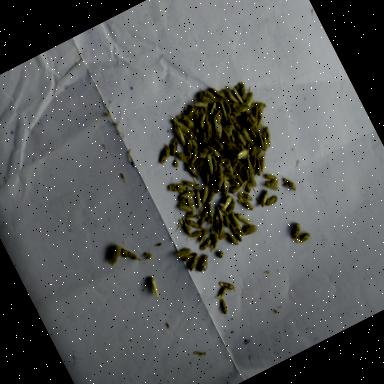pbw: (166, 177, 191, 200), (253, 149, 275, 175), (153, 142, 176, 166), (250, 187, 274, 210), (194, 182, 216, 206), (184, 174, 206, 198), (104, 243, 126, 266), (183, 252, 206, 274), (172, 114, 193, 138), (188, 188, 208, 213), (194, 252, 216, 274), (184, 145, 205, 168), (202, 84, 223, 107), (190, 156, 210, 180), (278, 172, 298, 196), (174, 197, 196, 218), (256, 130, 274, 154), (145, 276, 163, 300), (210, 116, 228, 140), (172, 124, 190, 148), (188, 214, 208, 235), (236, 192, 255, 214), (184, 160, 201, 184), (234, 80, 252, 102), (206, 231, 225, 251), (222, 196, 242, 215), (234, 208, 252, 229), (202, 203, 220, 224), (238, 124, 255, 146), (222, 228, 240, 248), (180, 138, 198, 158), (166, 136, 184, 156), (250, 155, 267, 176), (228, 220, 244, 242), (220, 276, 238, 295), (177, 192, 196, 210), (232, 127, 249, 147), (239, 222, 259, 239), (201, 118, 217, 139), (228, 211, 244, 232), (180, 214, 195, 236), (216, 177, 233, 196), (224, 86, 240, 106), (210, 132, 226, 152), (230, 82, 244, 104), (213, 222, 230, 240), (210, 83, 226, 102), (203, 154, 218, 174), (261, 126, 276, 146), (288, 222, 305, 239), (237, 187, 254, 204), (246, 142, 264, 158), (206, 154, 222, 172), (253, 110, 269, 128), (294, 230, 313, 245), (220, 138, 234, 158), (254, 128, 268, 148), (242, 90, 258, 107), (195, 229, 212, 245), (214, 286, 231, 302), (209, 212, 224, 230), (175, 148, 190, 166), (187, 120, 202, 138), (244, 121, 258, 140), (264, 177, 280, 193), (205, 100, 221, 116), (194, 140, 210, 156), (220, 194, 236, 210), (194, 112, 210, 128), (250, 97, 267, 112), (217, 298, 231, 316), (221, 128, 235, 146), (248, 113, 262, 131), (228, 112, 242, 130), (196, 209, 212, 224), (196, 127, 211, 143), (223, 166, 238, 182), (188, 228, 205, 242), (198, 237, 215, 251), (175, 246, 193, 259), (213, 204, 226, 222), (242, 178, 256, 194), (248, 155, 262, 171), (210, 146, 224, 162), (265, 194, 281, 208), (234, 101, 250, 115), (243, 156, 256, 173), (182, 251, 199, 264), (218, 202, 231, 219), (179, 188, 196, 201), (218, 100, 231, 116), (222, 98, 234, 115), (240, 163, 252, 180), (222, 156, 236, 170), (264, 170, 278, 184), (228, 183, 243, 196), (224, 122, 236, 138), (236, 147, 250, 160), (230, 140, 243, 154), (194, 96, 207, 110), (202, 171, 214, 186), (233, 170, 245, 184), (250, 104, 262, 118), (253, 137, 264, 152), (248, 172, 258, 188), (227, 176, 240, 188), (238, 111, 252, 122), (218, 111, 231, 122), (209, 226, 220, 238), (216, 166, 227, 178), (218, 154, 231, 164), (222, 213, 232, 226), (178, 218, 188, 231), (190, 137, 200, 149), (212, 170, 222, 182), (228, 132, 238, 143), (221, 116, 232, 126), (209, 173, 218, 185), (212, 182, 222, 192), (203, 140, 212, 151), (213, 108, 224, 117), (208, 137, 216, 149), (186, 211, 196, 220), (192, 113, 202, 122), (207, 111, 216, 120), (185, 131, 194, 140), (218, 150, 227, 158), (201, 106, 208, 115), (197, 109, 204, 116)
